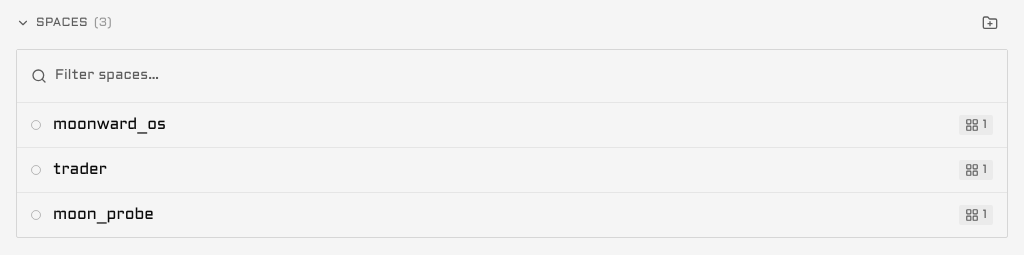
Scenario: SpaceOverview — filtering › narrows the list as you type, case-insensitively
Type "MOON" into the search field labelled "Filter spaces…" at point(524, 76), box [55,58,993,94]
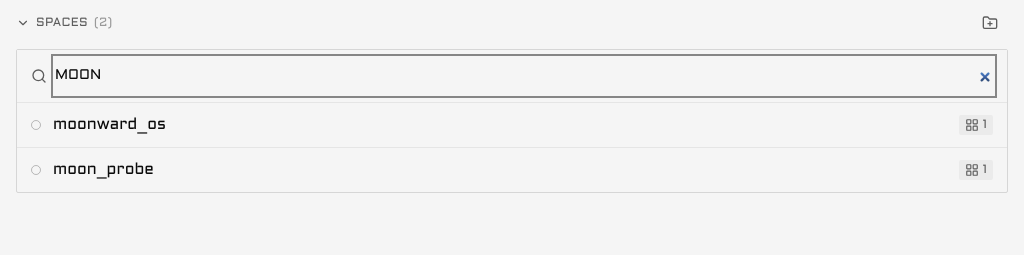
Check: the text "moonward_os" is shown, box [53,117,166,132]
Check: the button "trader" is gone
